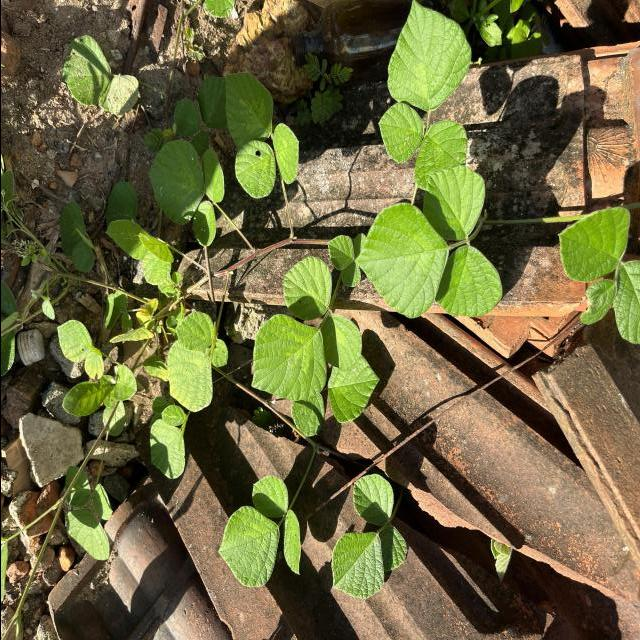Pseudarthria viscida: (352, 164, 503, 318), (377, 0, 472, 192), (248, 255, 362, 402), (223, 70, 300, 200), (329, 472, 406, 600), (216, 474, 301, 588), (146, 138, 224, 248)
